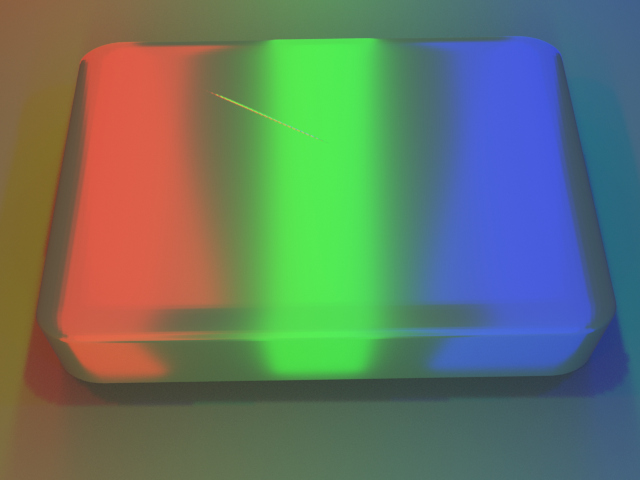scratch: (50, 24, 472, 226)
